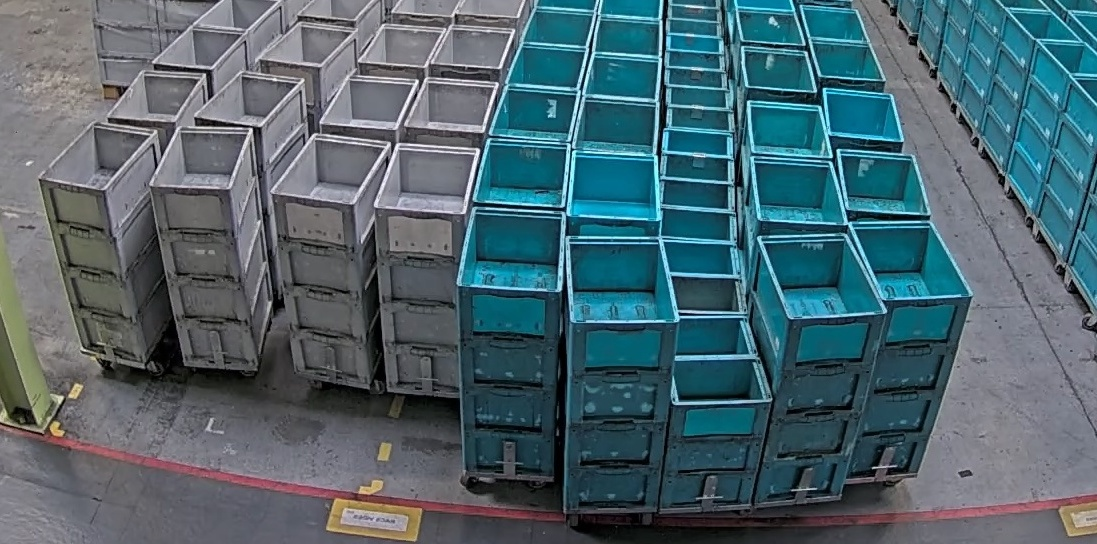4G: (37, 118, 172, 363), (269, 133, 394, 386), (149, 126, 275, 368), (372, 142, 482, 395)
B4: (746, 230, 887, 506), (560, 234, 681, 511), (846, 221, 975, 480), (456, 207, 569, 478)
B8: (657, 314, 774, 510)
